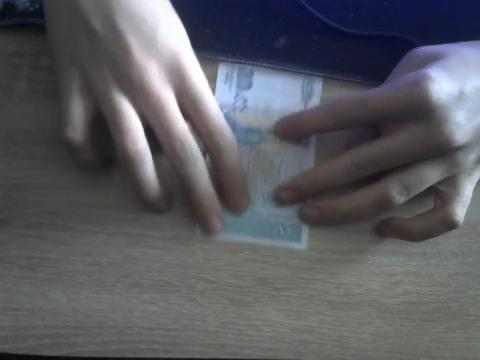20leva: (217, 144, 314, 250)
